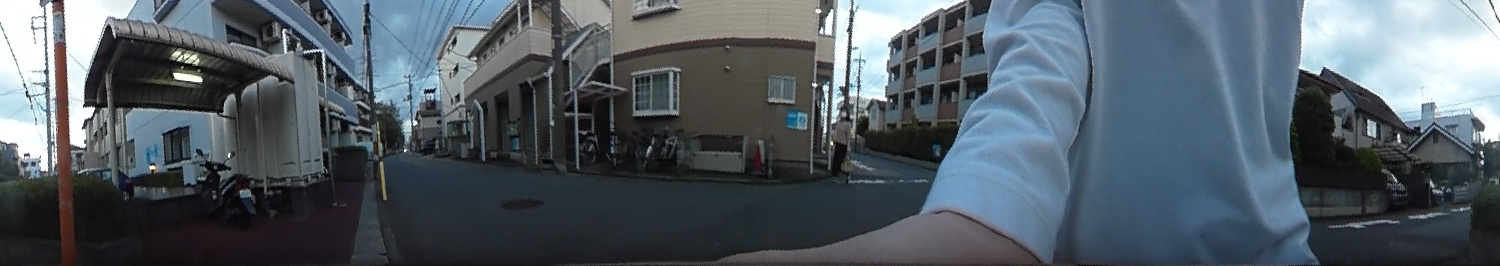person: (828, 105, 853, 179)
